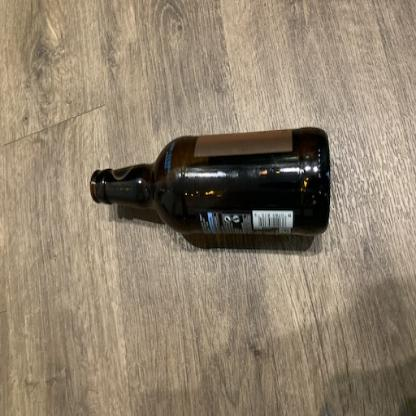trash: (82, 121, 336, 238)
